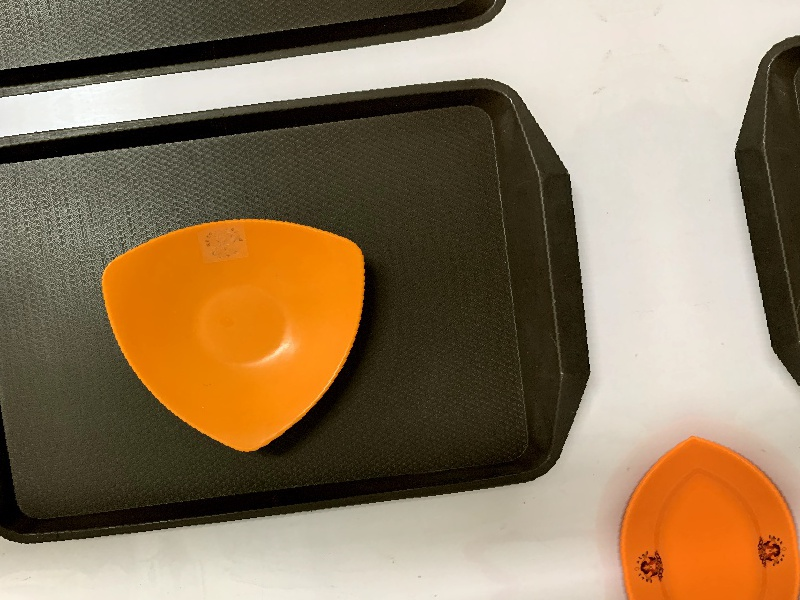dish11: (86, 196, 396, 475)
